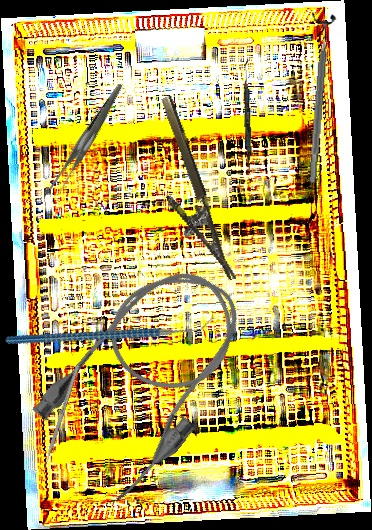Cannula: (21, 243, 275, 510)
Chopper: (4, 263, 216, 397)
Dressing Forceps: (26, 83, 150, 197)
Fixation Ring: (299, 12, 337, 184)
Needle Holder: (135, 94, 237, 292)
Pusher: (39, 364, 80, 480)
Spatula Surgical: (241, 60, 254, 175)
